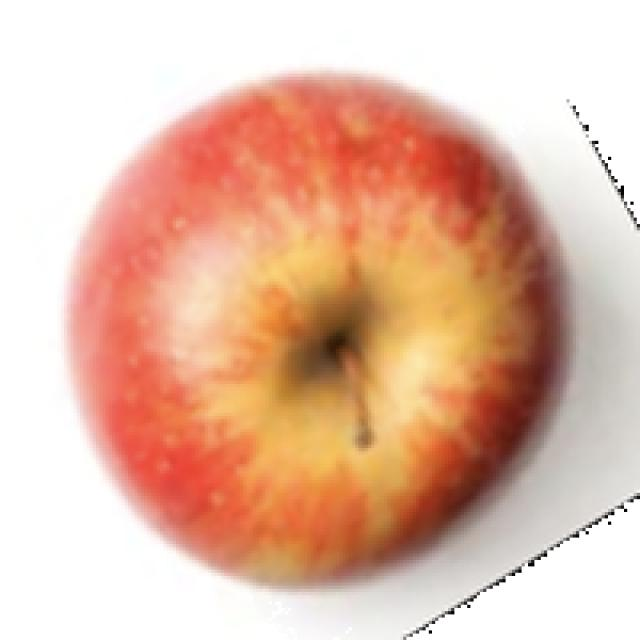apple: (54, 61, 634, 618)
